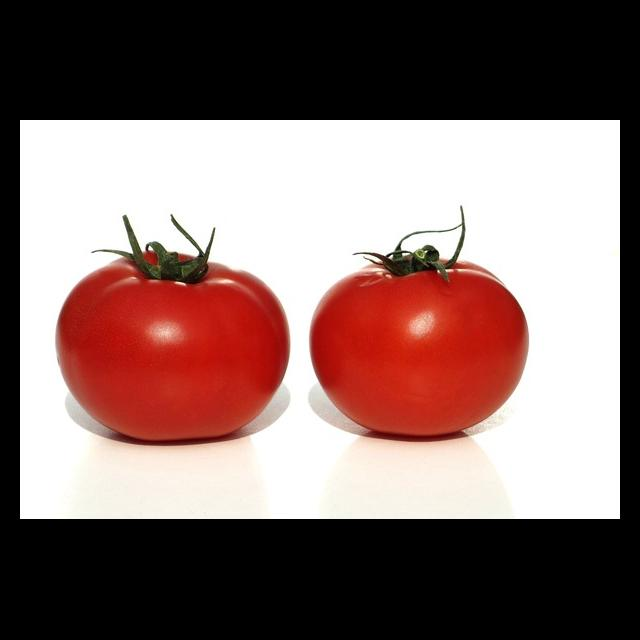tomato: (57, 220, 289, 440), (310, 206, 528, 436)
